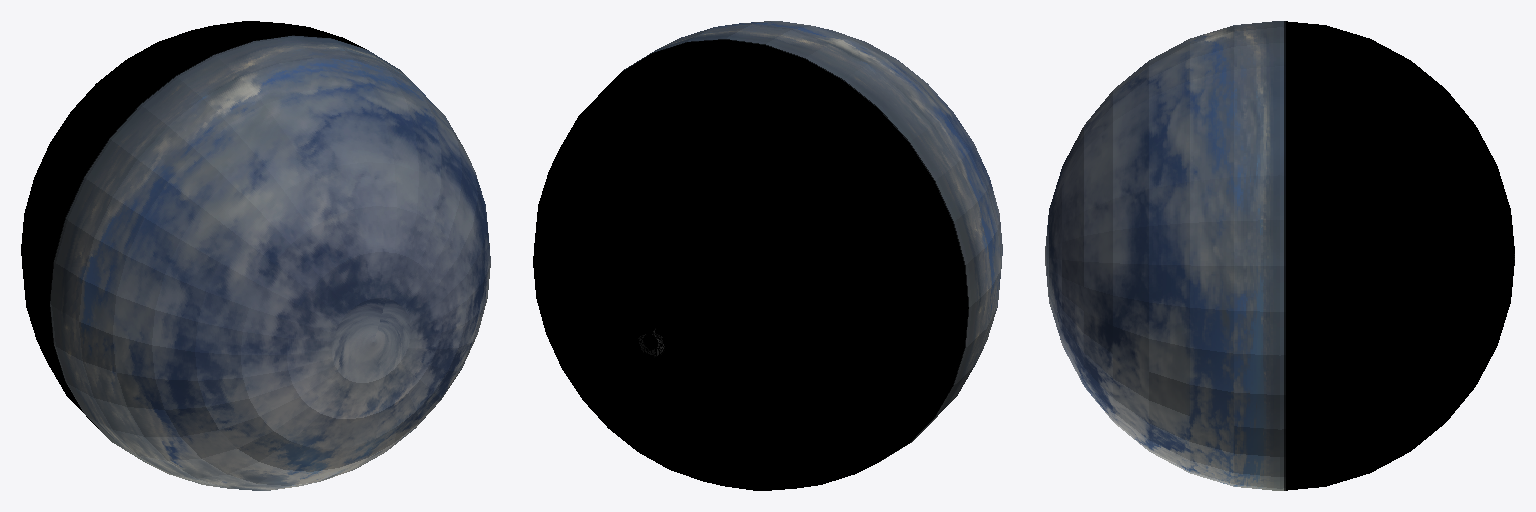
3 renders of one model, left to right at view 1: azimuth 30°, elevation 25°; view 2: azimuth 150°, elevation 25°; view 3: azimuth 270°, elevation 25°, orthographic.
Visible parts, largest first — view 1: Sphere; view 2: Sphere; view 3: Sphere.
Boxes of the visible parts, x1=… form: Sphere: x1=21, y1=21, x2=490, y2=490; Sphere: x1=533, y1=21, x2=1002, y2=490; Sphere: x1=1045, y1=21, x2=1514, y2=490.
Size of the model in its own units: 100 by 100 by 100.
36 materials, 34 textured.